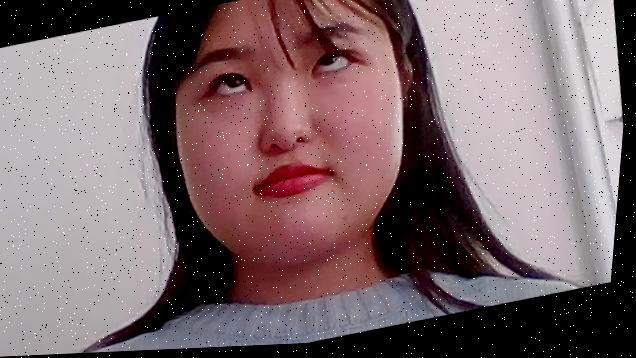eye: (225, 69, 249, 91), (318, 47, 340, 68)
iris: (211, 72, 255, 101), (312, 52, 355, 78)
